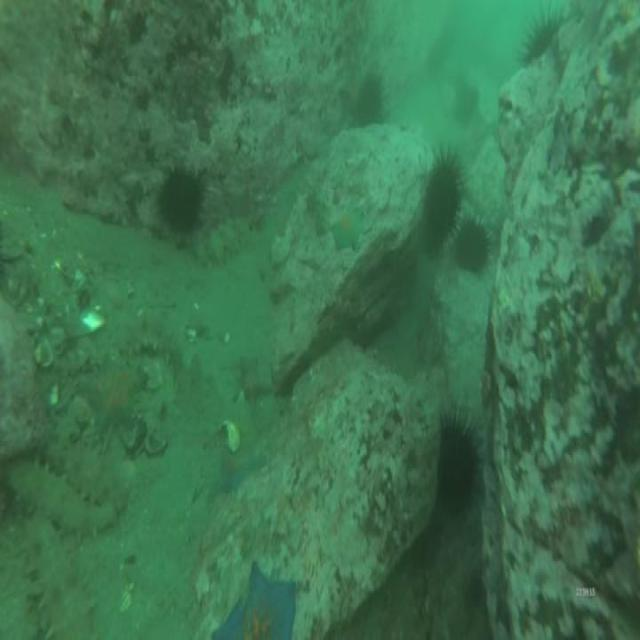echinus: (441, 427, 476, 515), (424, 158, 458, 247), (160, 174, 203, 234), (453, 218, 488, 270), (354, 74, 380, 124)
holothurian: (22, 518, 92, 636), (8, 455, 113, 533), (51, 448, 128, 510), (100, 316, 186, 360), (201, 216, 261, 264)
starfish: (206, 561, 297, 640), (74, 359, 146, 425), (331, 207, 365, 253)
